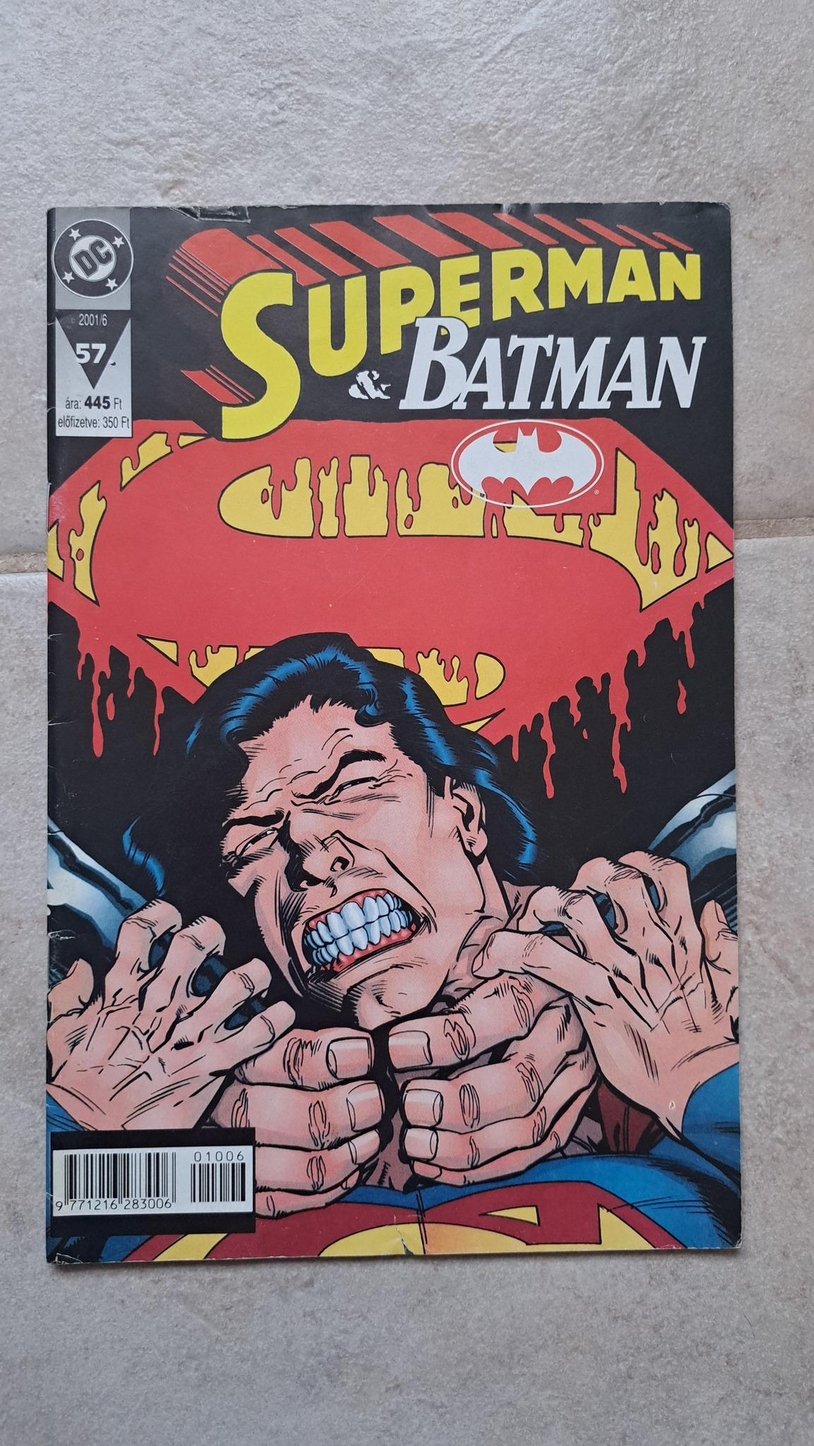comic: (41, 203, 739, 1261)
